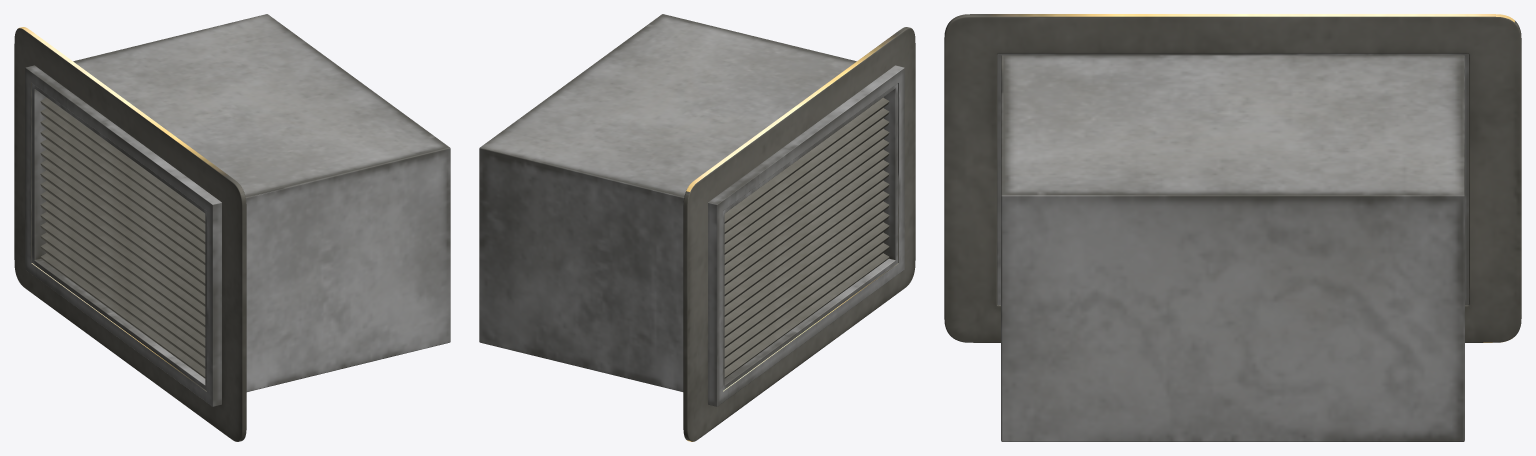
The model's file is SM_Ventilation_Set_07a.fbx.
3 renders of one model, left to right at view 1: azimuth 30°, elevation 25°; view 2: azimuth 150°, elevation 25°; view 3: azimuth 270°, elevation 25°, orthographic. The views are drawn at different scales.
Parts seen in each view (by area): view 1: SM_Ventilation_Set_07a_LOD0; view 2: SM_Ventilation_Set_07a_LOD0; view 3: SM_Ventilation_Set_07a_LOD0.
Boxes of the visible parts, x1,y1,x2,y2 form: SM_Ventilation_Set_07a_LOD0: [14, 14, 450, 441]; SM_Ventilation_Set_07a_LOD0: [479, 14, 915, 441]; SM_Ventilation_Set_07a_LOD0: [944, 14, 1521, 441].
Size of the model in its own units: 48.64 by 80 by 50.
